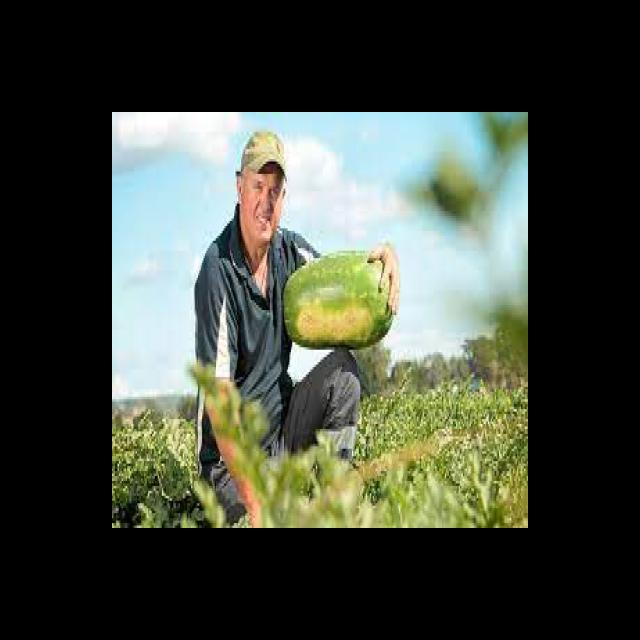watermelon: (283, 250, 394, 349)
